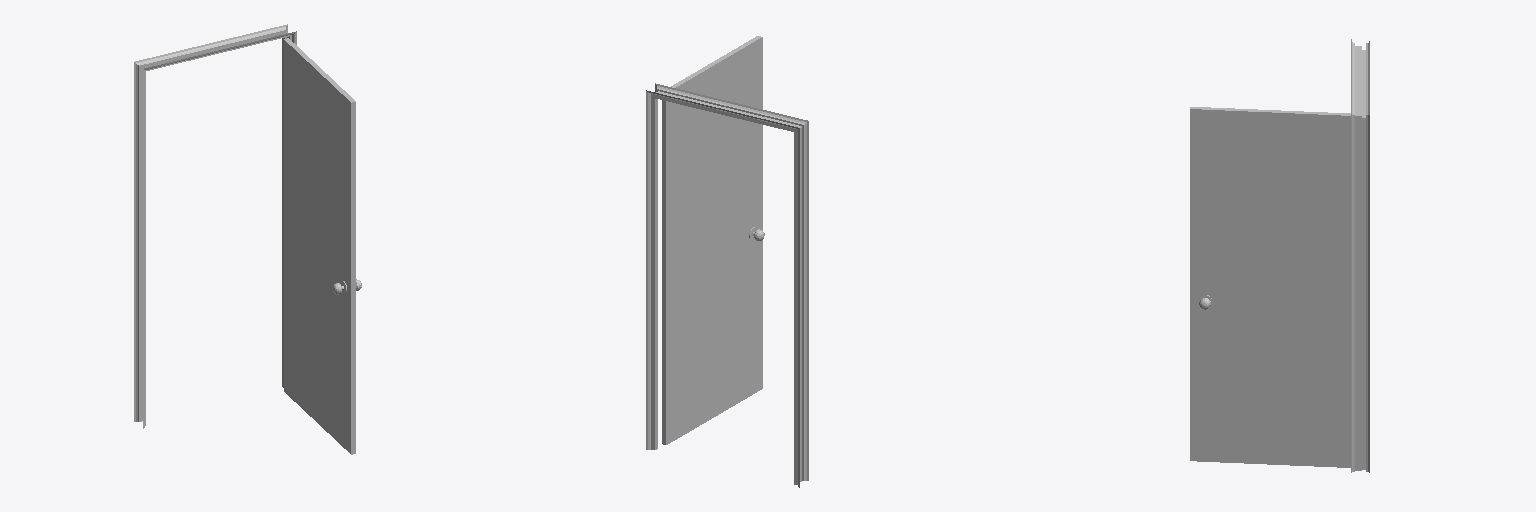
Rendered from mdl_door_02_open.obj.
The picture shows the model from 3 angles: view 1: azimuth 30°, elevation 25°; view 2: azimuth 150°, elevation 25°; view 3: azimuth 270°, elevation 25°; orthographic projection.
Visible parts, largest first — view 1: Object003; view 2: Object003; view 3: Object003.
Boxes of the visible parts, box(x1,y1,x2,y2) form: Object003: box(134, 24, 361, 454); Object003: box(646, 36, 808, 487); Object003: box(1190, 39, 1369, 472).
Bounding box in the file's own units: 94 × 210 × 95.45.